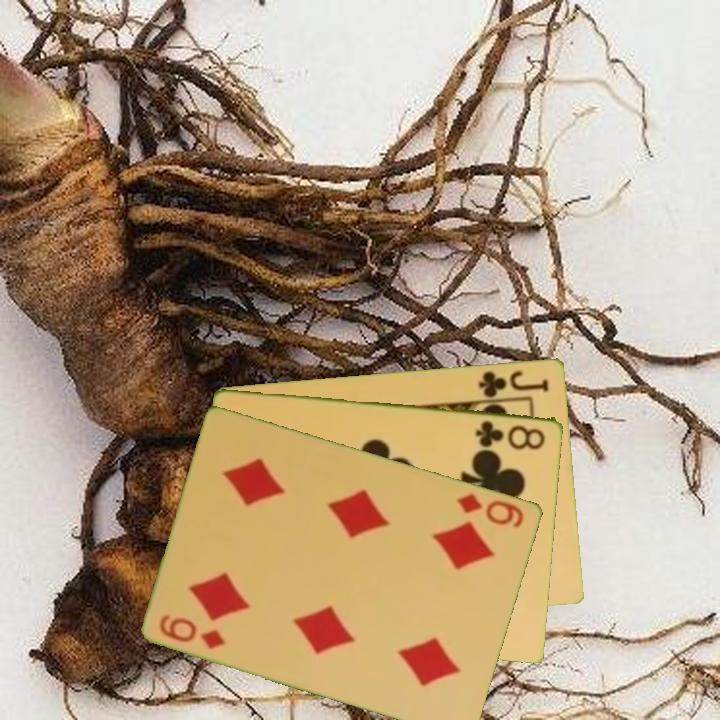6d: (453, 489, 528, 530), (156, 611, 229, 652)
8c: (472, 416, 548, 453)
Jc: (475, 366, 552, 400)
